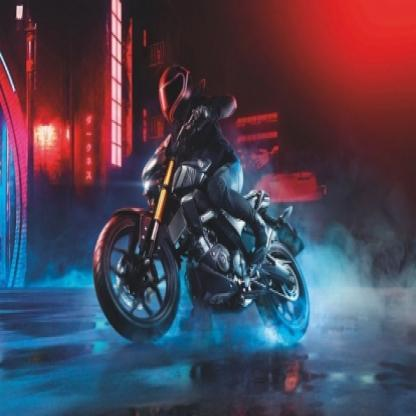helmet: (158, 64, 195, 125)
